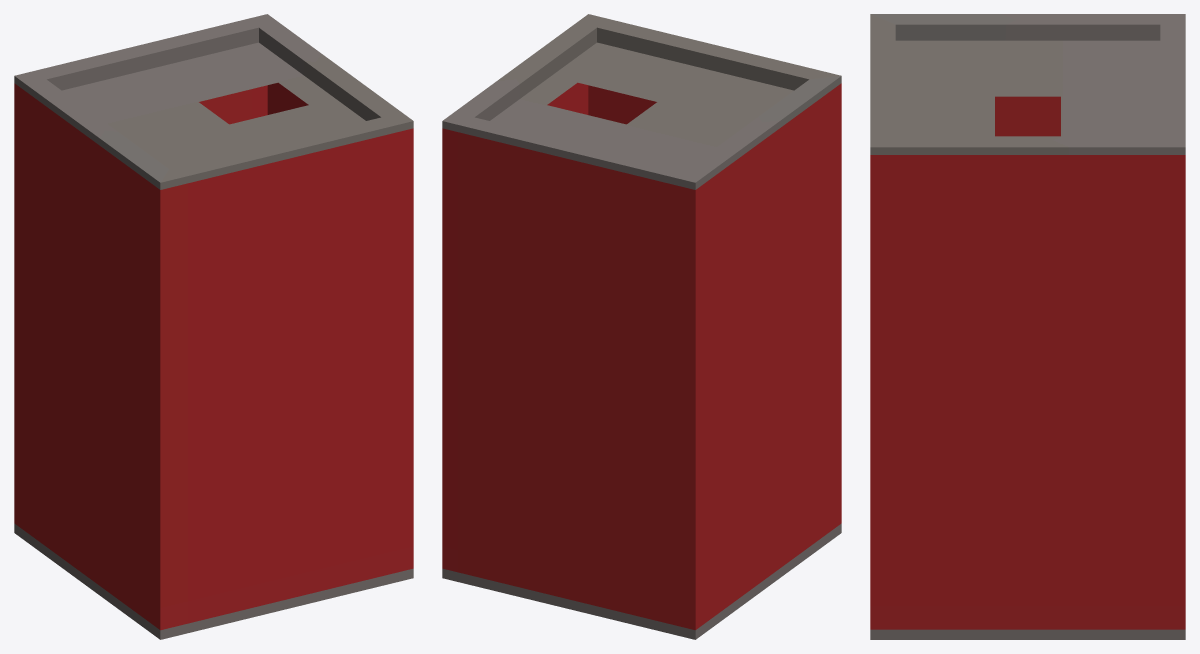
File: Can.fbx
3 renders of one model, left to right at view 1: azimuth 30°, elevation 25°; view 2: azimuth 150°, elevation 25°; view 3: azimuth 270°, elevation 25°, orthographic. The views are drawn at different scales.
Visible parts, largest first — view 1: Can; view 2: Can; view 3: Can.
Boxes of the visible parts, bbox=[...] form: Can: bbox=[14, 14, 413, 639]; Can: bbox=[442, 14, 841, 639]; Can: bbox=[870, 14, 1185, 639].
Bounding box in the file's own units: 9.62 × 16.59 × 9.62.
1 material, 1 textured.
